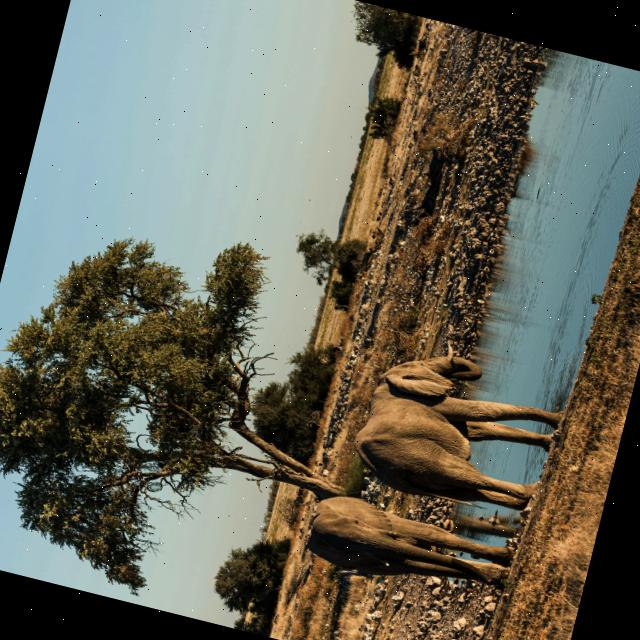Elephant: (344, 326, 572, 524), (304, 487, 518, 606)
